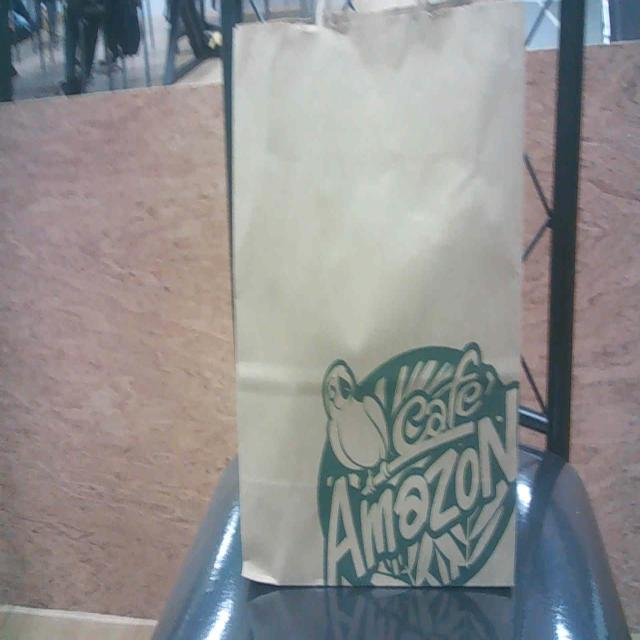bag: (247, 16, 519, 581)
